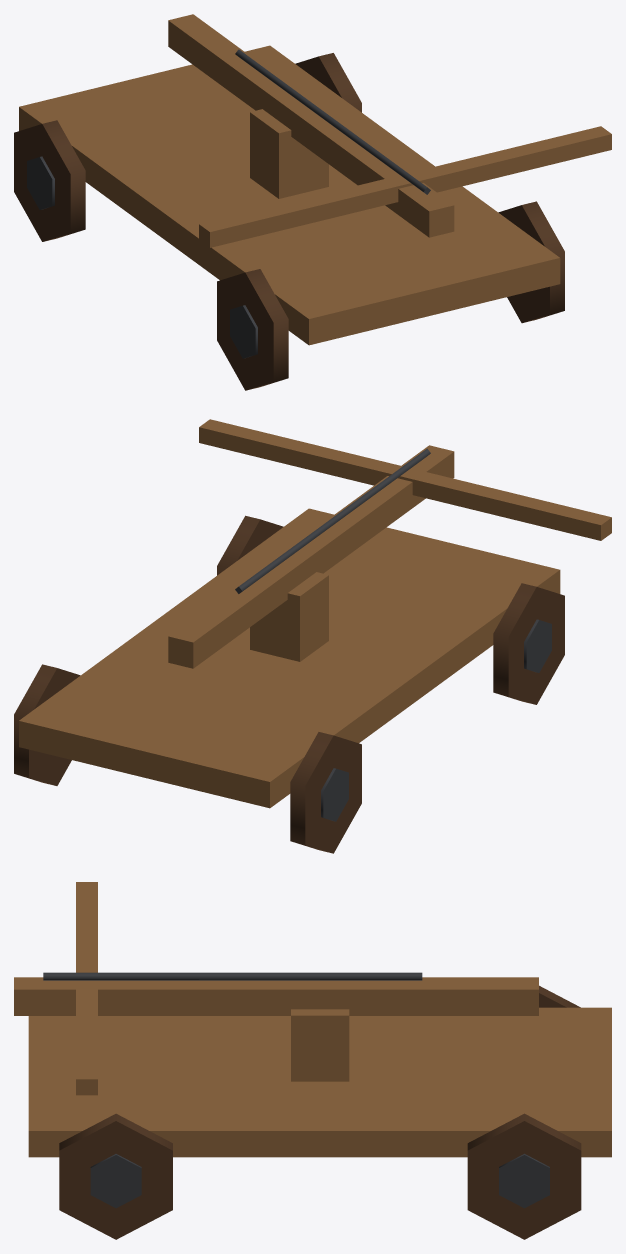
File: unit_mil_ballista_a02_lod1.glb
3 views of the same model, one above another, from view 1: azimuth 30°, elevation 25°; view 2: azimuth 150°, elevation 25°; view 3: azimuth 270°, elevation 25° (orthographic).
Parts seen in each view (by area): view 1: body, wheel_2, wheel_0, wheel_3, wheel_1; view 2: body, wheel_2, wheel_0, wheel_1, wheel_3; view 3: body, wheel_1, wheel_3, wheel_0.
Part boxes in pixels (box(x1,y1,x2,y2)): body: box(19, 14, 611, 345); wheel_2: box(217, 269, 288, 390); wheel_0: box(14, 120, 85, 241); wheel_3: box(498, 201, 564, 323); wheel_1: box(295, 53, 361, 112); body: box(19, 419, 611, 808); wheel_2: box(493, 583, 564, 704); wheel_0: box(290, 732, 361, 853); wheel_1: box(14, 664, 80, 785); wheel_3: box(217, 515, 283, 575); body: box(14, 882, 611, 1157); wheel_1: box(467, 1113, 581, 1239); wheel_3: box(59, 1113, 172, 1239); wheel_0: box(539, 985, 580, 1007).
Bounding box in the file's own units: 3.2 × 1.48 × 4.1.
